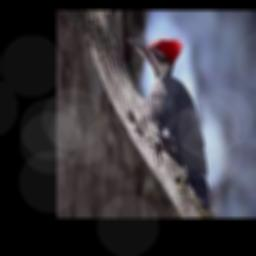Woodpecker: (128, 37, 210, 208)
